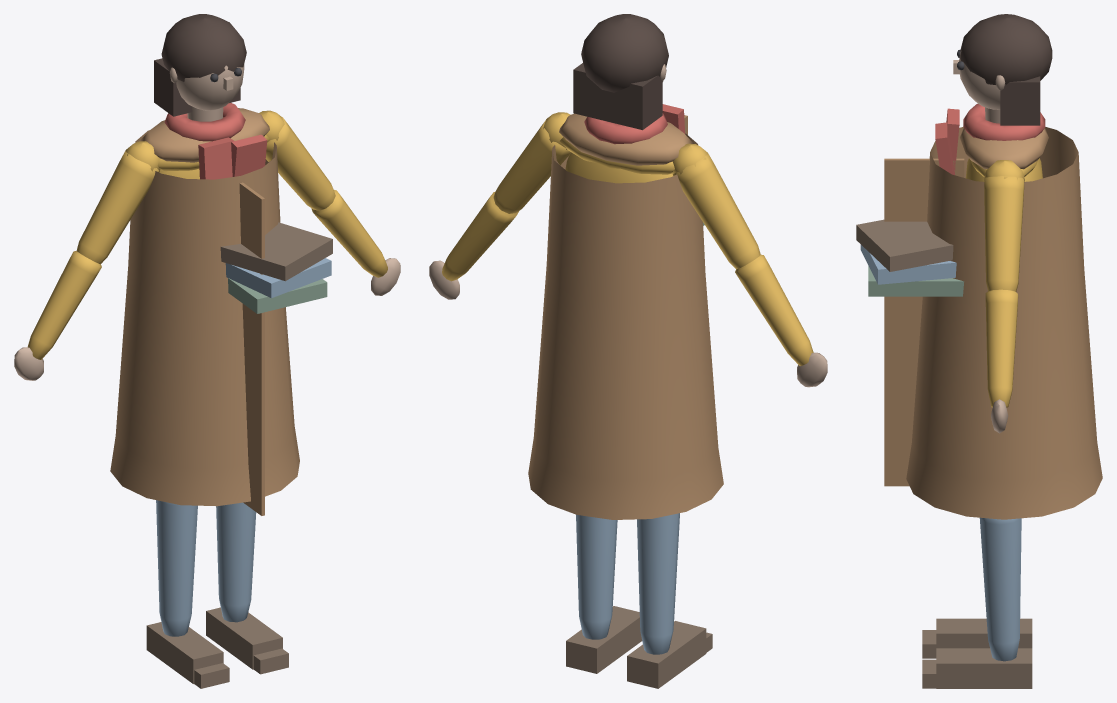
File: Maren_age_22.glb
The picture shows the model from 3 angles, left to right: view 1: azimuth 30°, elevation 25°; view 2: azimuth 150°, elevation 25°; view 3: azimuth 270°, elevation 25°; orthographic projection. The views are drawn at different scales.
Parts seen in each view (by area): view 1: Maren_age_22; view 2: Maren_age_22; view 3: Maren_age_22.
Part boxes in pixels (x1,y1,x2,y2): Maren_age_22: [14, 14, 400, 688]; Maren_age_22: [429, 14, 827, 688]; Maren_age_22: [856, 14, 1102, 688].
Bounding box in the file's own units: 1.1 × 1.72 × 0.5926.
